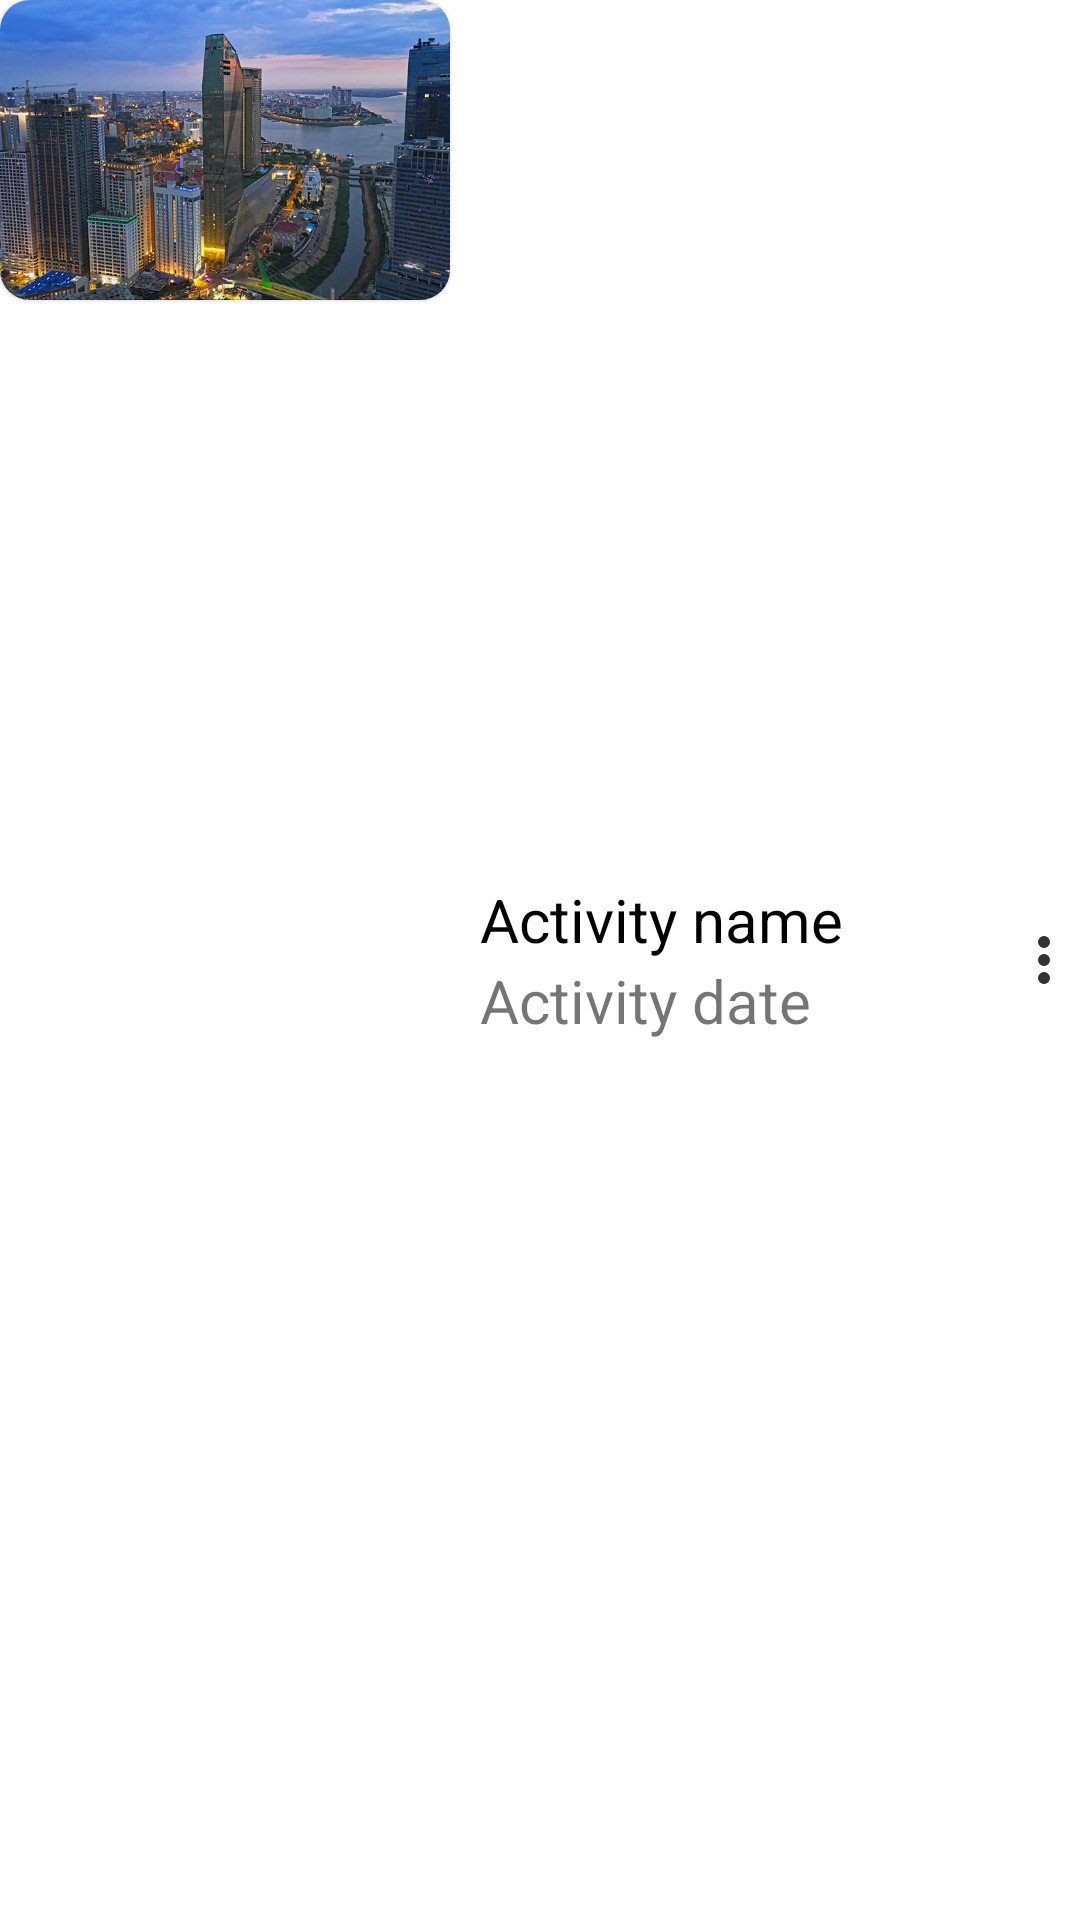

Where icons sit on this 1080x1920 app screen, as region(x1, y1, x2, y2):
more vert: region(1038, 936, 1050, 984)
